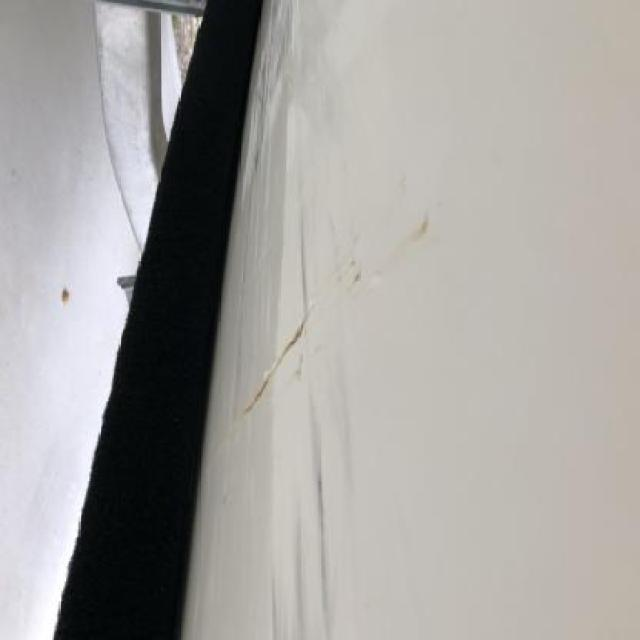crack: (231, 281, 328, 431)
